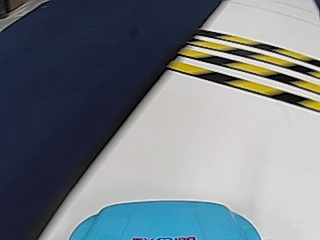bump: (196, 33, 309, 101)
